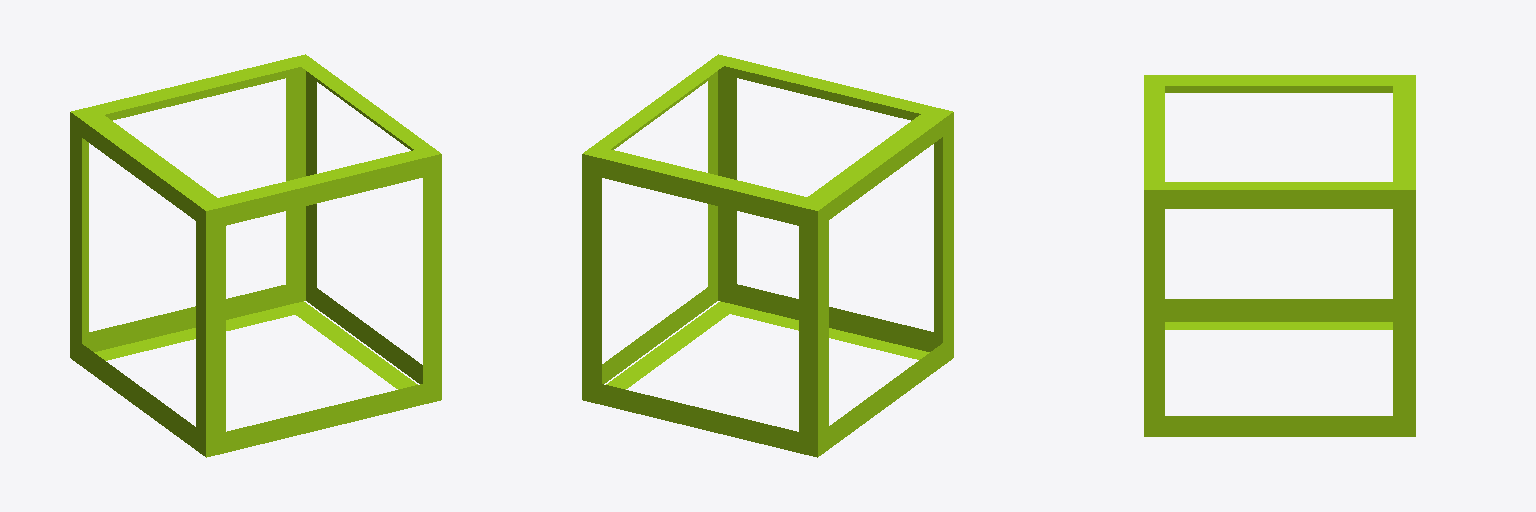
The picture shows the model from 3 angles: view 1: azimuth 30°, elevation 25°; view 2: azimuth 150°, elevation 25°; view 3: azimuth 270°, elevation 25°; orthographic projection.
Visible parts, largest first — view 1: Cube; view 2: Cube; view 3: Cube.
Boxes of the visible parts, box(x1,y1,x2,y2) form: Cube: box(70, 54, 441, 457); Cube: box(582, 54, 953, 457); Cube: box(1144, 75, 1415, 436).
Bounding box in the file's own units: 1 × 1 × 1.
Materials: 1 (1 with a texture image).